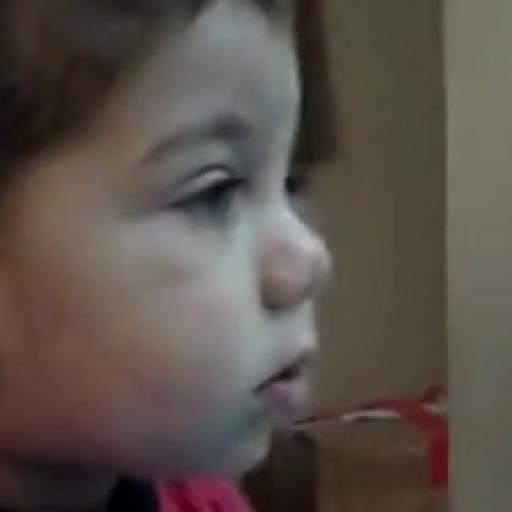Autism: (15, 41, 342, 480)
